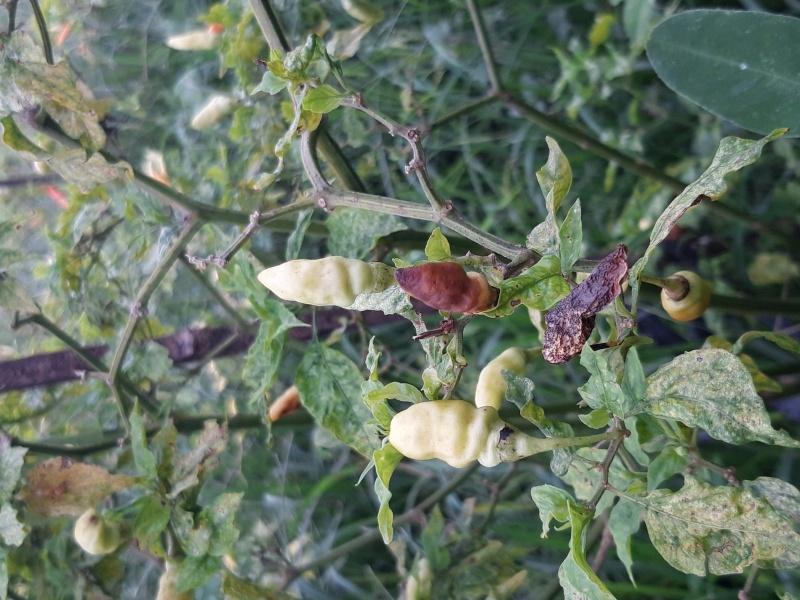antraknosa: (543, 243, 627, 365), (398, 263, 497, 314)
cabai_normal: (391, 401, 505, 465), (257, 256, 378, 311), (476, 347, 528, 410), (663, 272, 716, 320), (74, 508, 124, 556), (190, 95, 234, 131), (166, 29, 223, 52)
